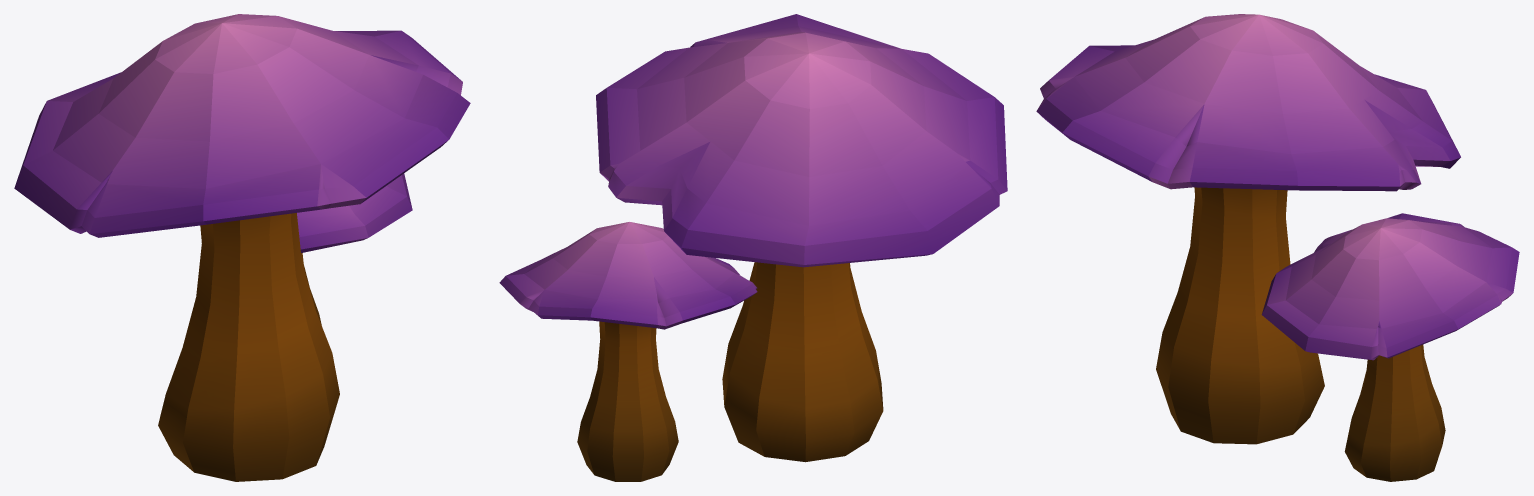
File: TwoLargeMushrooms.fbx
The picture shows the model from 3 angles, left to right: view 1: azimuth 30°, elevation 25°; view 2: azimuth 150°, elevation 25°; view 3: azimuth 270°, elevation 25°; orthographic projection. The views are drawn at different scales.
Parts seen in each view (by area): view 1: polySurface1; view 2: polySurface1; view 3: polySurface1.
Part boxes in pixels (box(x1,y1,x2,y2)): polySurface1: box(14, 14, 470, 481); polySurface1: box(499, 14, 1007, 481); polySurface1: box(1036, 14, 1519, 481).
Size of the model in its own units: 1.23 by 1.18 by 1.31.
